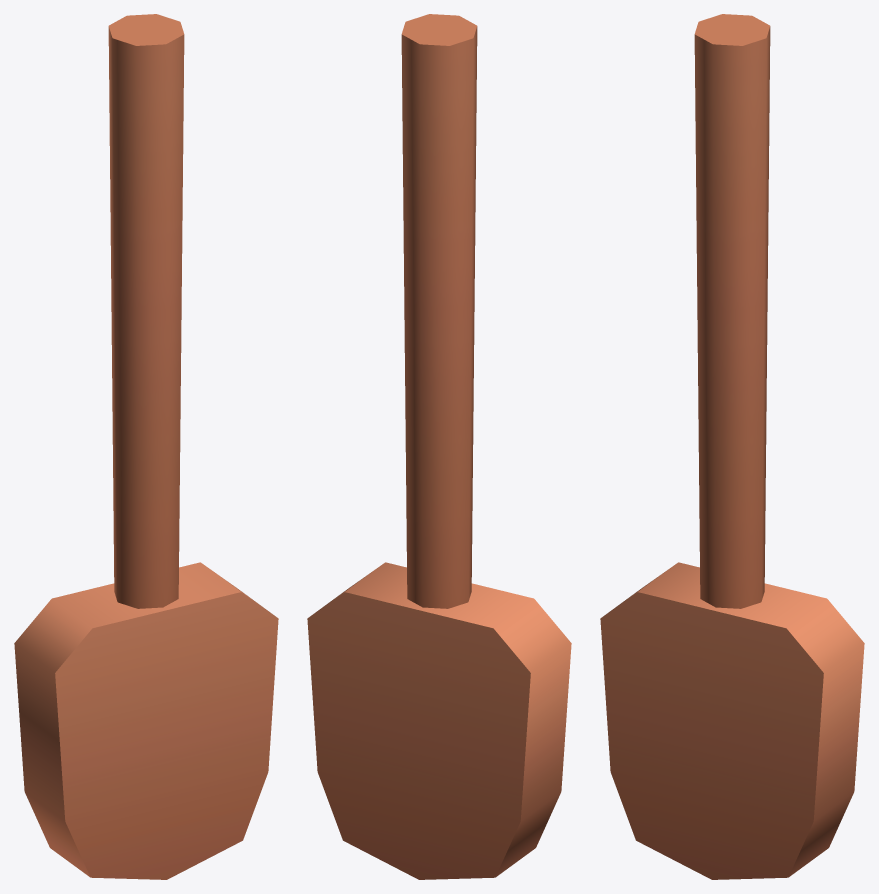
File: paddle.glb
The picture shows the model from 3 angles, left to right: view 1: azimuth 30°, elevation 25°; view 2: azimuth 150°, elevation 25°; view 3: azimuth 330°, elevation 25°; orthographic projection.
Parts seen in each view (by area): view 1: tool-paddle; view 2: tool-paddle; view 3: tool-paddle.
Part boxes in pixels (x1,y1,x2,y2): tool-paddle: (14,14,278,879); tool-paddle: (307,14,571,879); tool-paddle: (600,14,864,879).
Size of the model in its own units: 0.6579 by 2.35 by 0.2076.
1 material, 1 textured.
